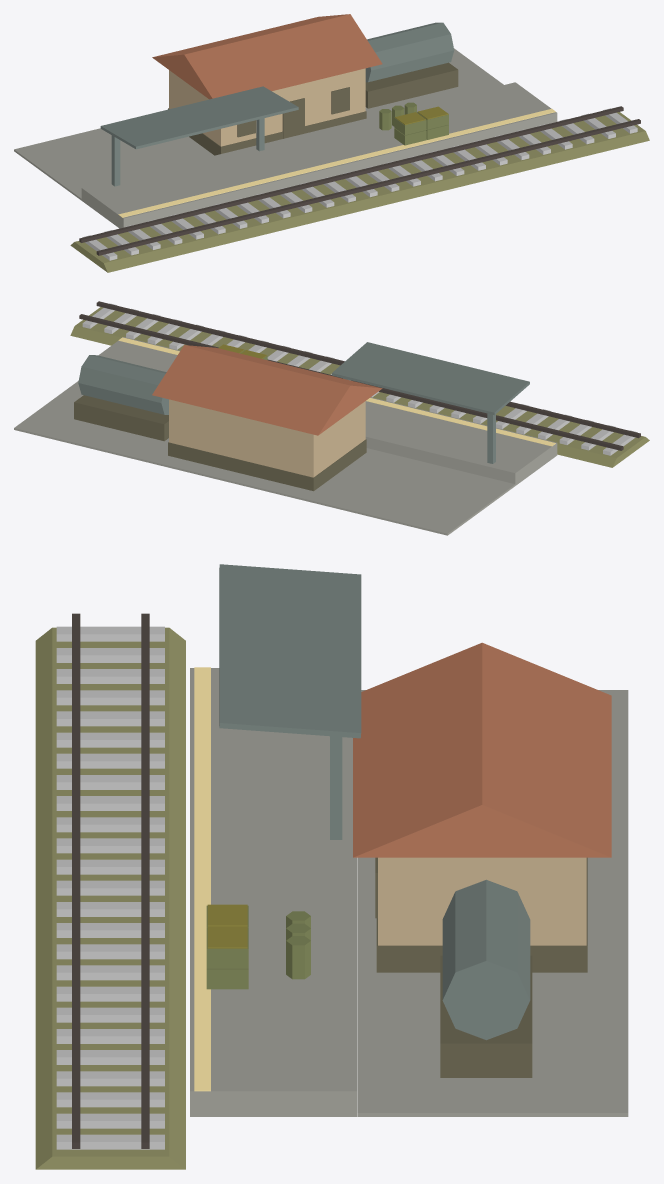
File: SM_EstacionH1_v4_Deposito_LOD1.fbx
The picture shows the model from 3 angles, top to bottom: view 1: azimuth 30°, elevation 25°; view 2: azimuth 150°, elevation 25°; view 3: azimuth 270°, elevation 25°; orthographic projection. The views are drawn at different scales.
Parts seen in each view (by area): view 1: SM_estacion_h1_v4_LOD1; view 2: SM_estacion_h1_v4_LOD1; view 3: SM_estacion_h1_v4_LOD1.
Boxes of the visible parts, x1,y1,x2,y2 form: SM_estacion_h1_v4_LOD1: (14,14,649,272); SM_estacion_h1_v4_LOD1: (14,301,649,535); SM_estacion_h1_v4_LOD1: (35,564,628,1169).
Size of the model in its own units: 30 by 4.8 by 14.2.
